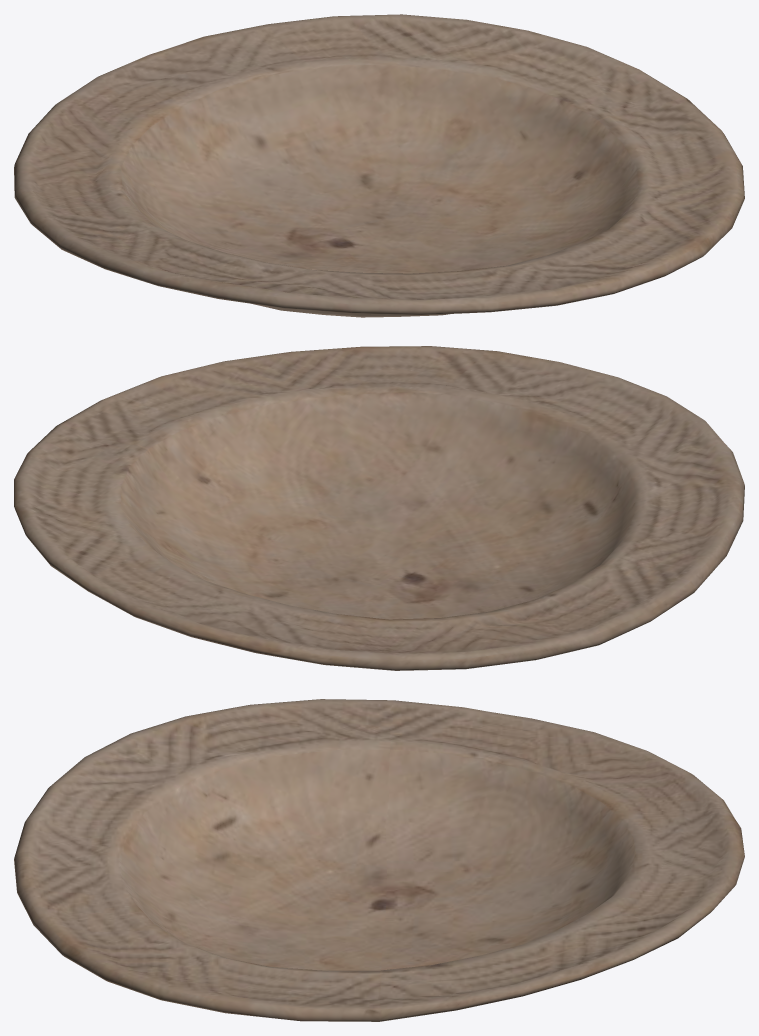
File: carved_wooden_plate.glb
3 views of the same model, one above another, from view 1: azimuth 30°, elevation 25°; view 2: azimuth 150°, elevation 25°; view 3: azimuth 270°, elevation 25° (orthographic). The views are drawn at different scales.
Size of the model in its own units: 0.2718 by 0.0381 by 0.2688.
1 material, 1 textured.
